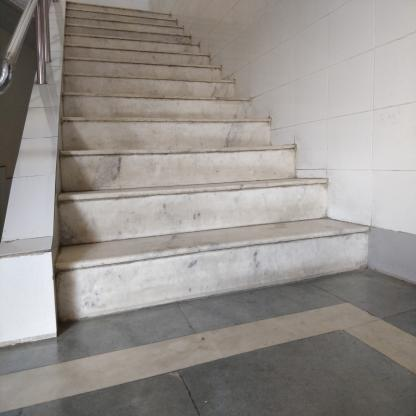stairs: (65, 134, 268, 329)
